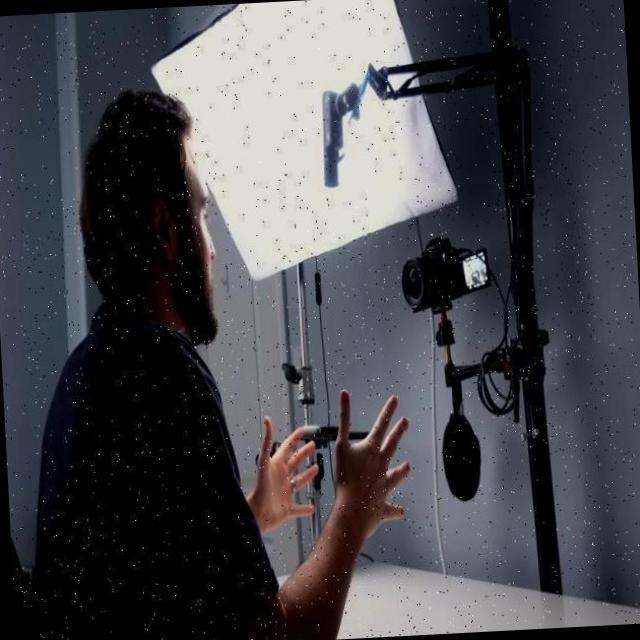person: (10, 76, 419, 640)
